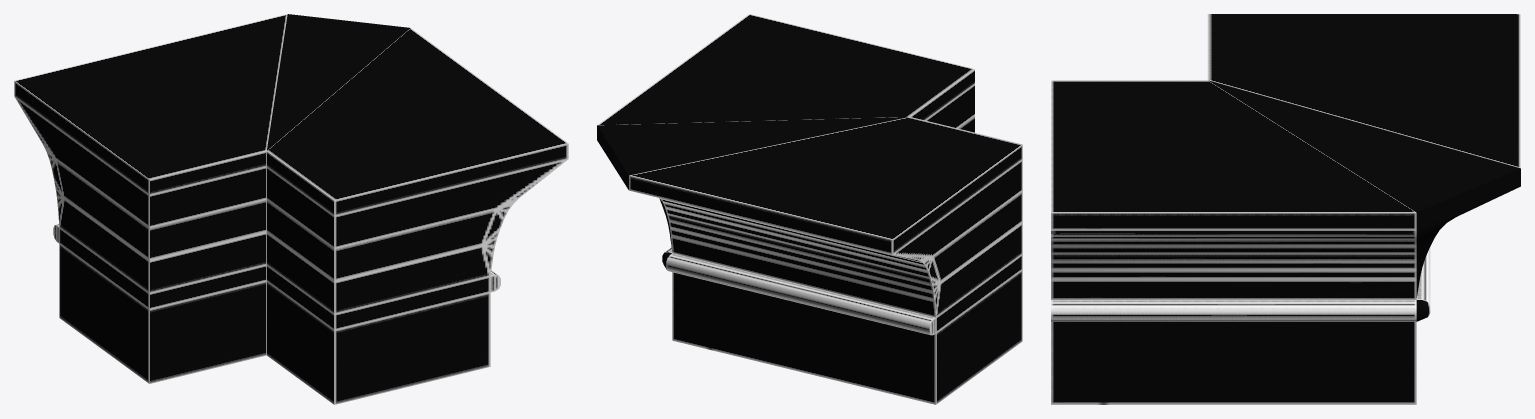
File: Roof03.fbx
3 renders of one model, left to right at view 1: azimuth 30°, elevation 25°; view 2: azimuth 150°, elevation 25°; view 3: azimuth 270°, elevation 25°, orthographic. The views are drawn at different scales.
Visible parts, largest first — view 1: Roof03; view 2: Roof03; view 3: Roof03.
Boxes of the visible parts, x1=… form: Roof03: x1=14, y1=14, x2=568, y2=404; Roof03: x1=597, y1=14, x2=1022, y2=404; Roof03: x1=1051, y1=14, x2=1520, y2=404.
Size of the model in its own units: 450 by 250 by 450.
Materials: 1 (1 with a texture image).
